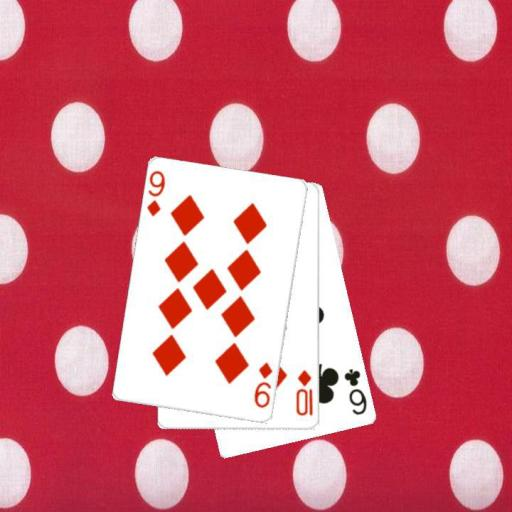10D: (294, 367, 315, 417)
6C: (341, 366, 369, 417)
9D: (251, 359, 275, 410), (144, 167, 167, 218)
